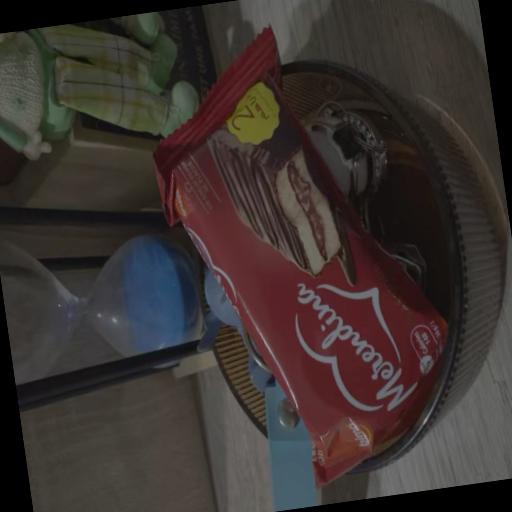merendina: (110, 0, 496, 506)
